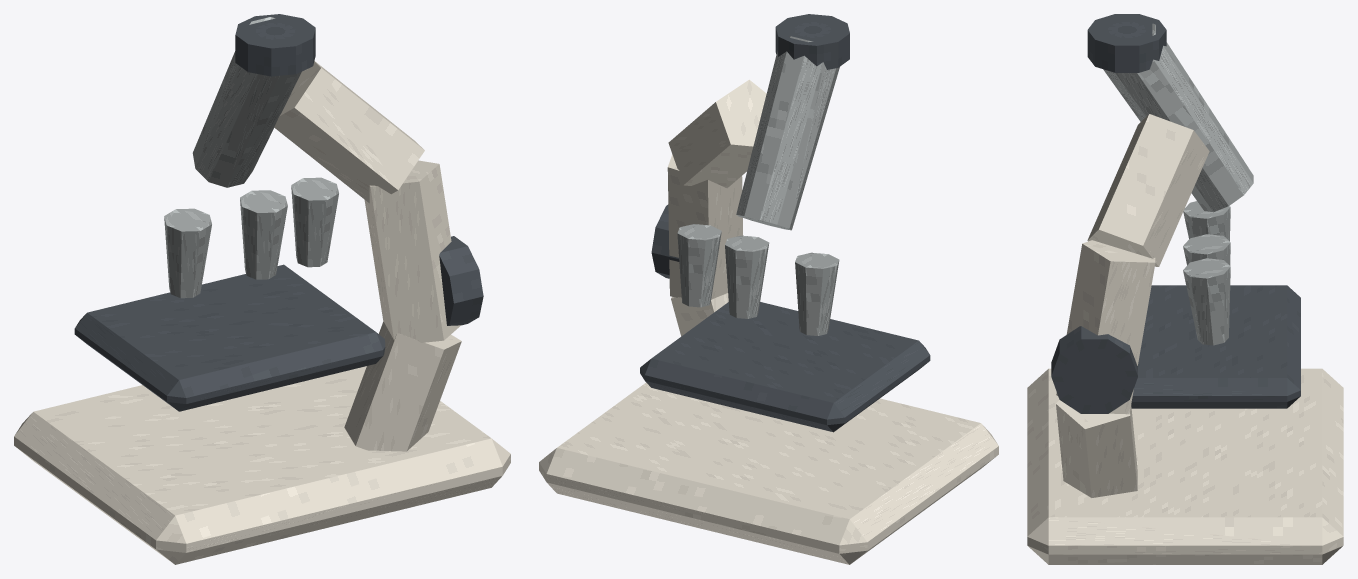
Rendered from microscope.glb.
The picture shows the model from 3 angles, left to right: view 1: azimuth 30°, elevation 25°; view 2: azimuth 150°, elevation 25°; view 3: azimuth 270°, elevation 25°; orthographic projection. The views are drawn at different scales.
Parts seen in each view (by area): view 1: block_weighted base, block_sample stage, block_curved support 1, block_curved support 2, block_short objective lens (×3), block_curved support 0, block_inclined eyepiece, block_rubber eyecup, block_focus knob; view 2: block_weighted base, block_sample stage, block_inclined eyepiece, block_short objective lens (×3), block_curved support 2, block_curved support 1, block_rubber eyecup, block_curved support 0, block_focus knob; view 3: block_weighted base, block_sample stage, block_curved support 2, block_inclined eyepiece, block_curved support 1, block_curved support 0, block_focus knob, block_short objective lens (×3), block_rubber eyecup.
Boxes of the visible parts, x1=… form: block_weighted base: x1=14, y1=366, x2=510, y2=564; block_sample stage: x1=74, y1=264, x2=385, y2=411; block_curved support 1: x1=364, y1=160, x2=460, y2=342; block_curved support 2: x1=274, y1=61, x2=424, y2=203; block_short objective lens (×3): x1=164, y1=177, x2=338, y2=298; block_curved support 0: x1=344, y1=321, x2=461, y2=451; block_inclined eyepiece: x1=192, y1=17, x2=301, y2=187; block_rubber eyecup: x1=235, y1=14, x2=315, y2=76; block_focus knob: x1=439, y1=236, x2=483, y2=325; block_weighted base: x1=539, y1=382, x2=998, y2=564; block_sample stage: x1=640, y1=302, x2=930, y2=432; block_inclined eyepiece: x1=736, y1=36, x2=839, y2=230; block_short objective lens (×3): x1=677, y1=224, x2=839, y2=335; block_curved support 2: x1=668, y1=79, x2=766, y2=188; block_curved support 1: x1=667, y1=154, x2=742, y2=299; block_rubber eyecup: x1=775, y1=14, x2=849, y2=69; block_curved support 0: x1=671, y1=293, x2=728, y2=336; block_focus knob: x1=651, y1=204, x2=679, y2=278; block_weighted base: x1=1027, y1=368, x2=1343, y2=564; block_sample stage: x1=1131, y1=285, x2=1300, y2=408; block_curved support 2: x1=1087, y1=114, x2=1209, y2=266; block_inclined eyepiece: x1=1103, y1=23, x2=1253, y2=212; block_curved support 1: x1=1056, y1=240, x2=1155, y2=414; block_curved support 0: x1=1056, y1=400, x2=1137, y2=497; block_focus knob: x1=1051, y1=326, x2=1137, y2=413; block_short objective lens (×3): x1=1183, y1=201, x2=1230, y2=345; block_rubber eyecup: x1=1087, y1=14, x2=1166, y2=72.
Bounding box in the file's own units: 0.2838 × 0.36 × 0.2274.
1 material, 1 textured.
